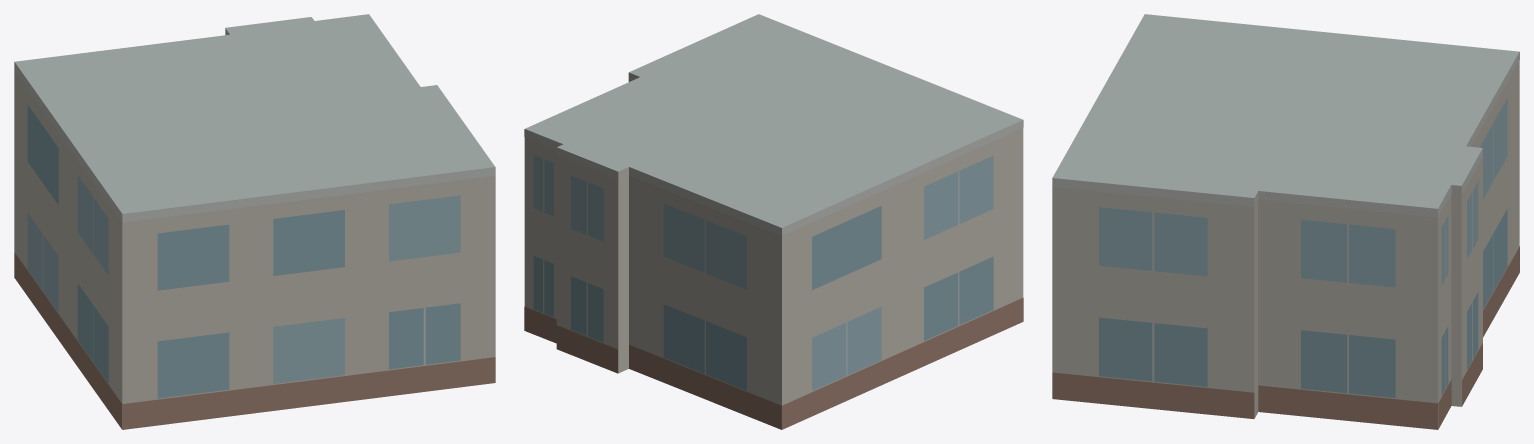
File: survey-upis-32806852.glb
3 views of the same model, side by side, from view 1: azimuth 30°, elevation 25°; view 2: azimuth 150°, elevation 25°; view 3: azimuth 270°, elevation 25° (orthographic). The views are drawn at different scales.
Parts seen in each view (by area): view 1: survey-upis-32806852.tmp; view 2: survey-upis-32806852.tmp; view 3: survey-upis-32806852.tmp.
Part boxes in pixels (x1,y1,x2,y2): survey-upis-32806852.tmp: [14, 14, 495, 429]; survey-upis-32806852.tmp: [524, 14, 1023, 429]; survey-upis-32806852.tmp: [1052, 14, 1519, 429].
Size of the model in its own units: 11.54 by 6.1 by 11.7.
